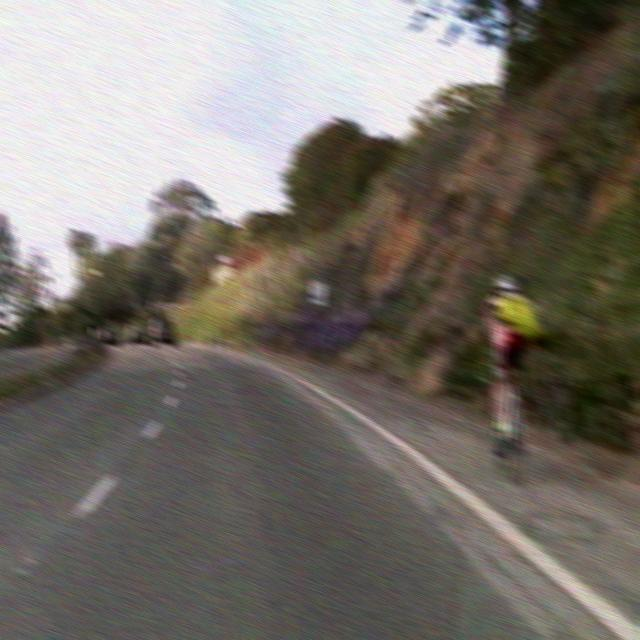speedLimit45: (308, 278, 327, 306)
